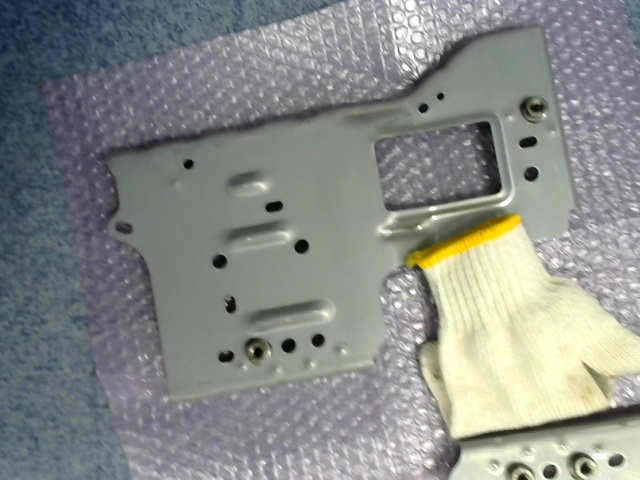dog: (240, 335, 274, 367), (519, 93, 549, 125)
